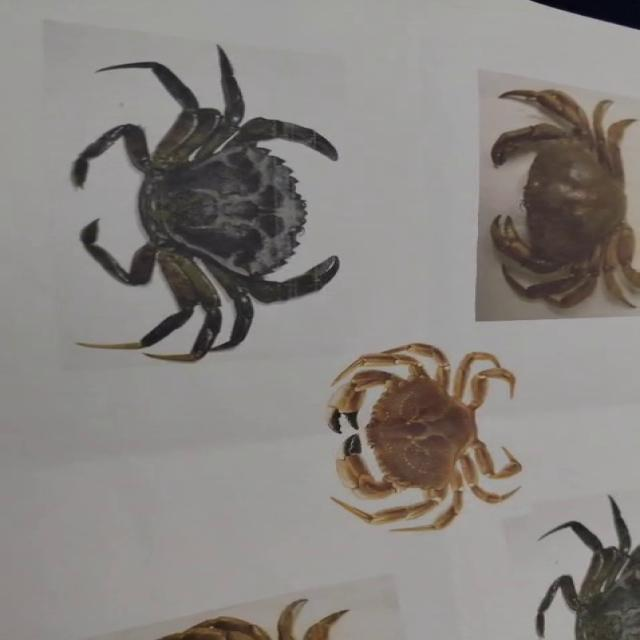egc: (71, 46, 339, 361), (536, 495, 639, 639)
